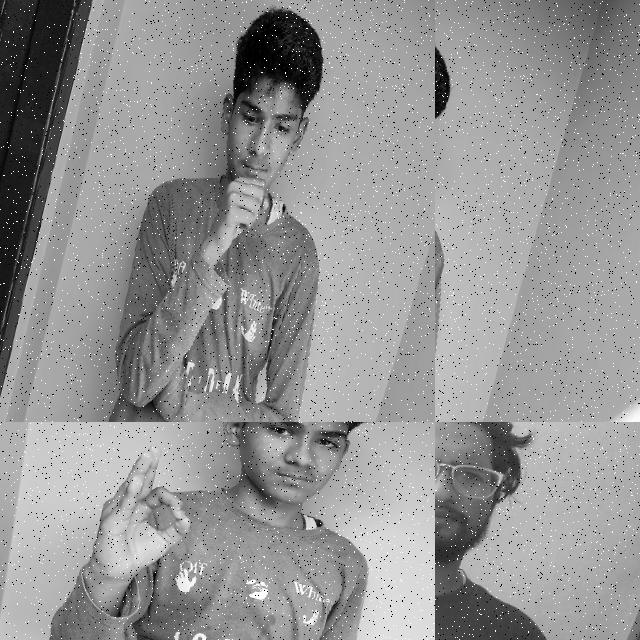Chin Flick: (435, 25, 466, 288)
Fist Mouth: (179, 5, 352, 277)
Okay: (80, 434, 214, 602)
